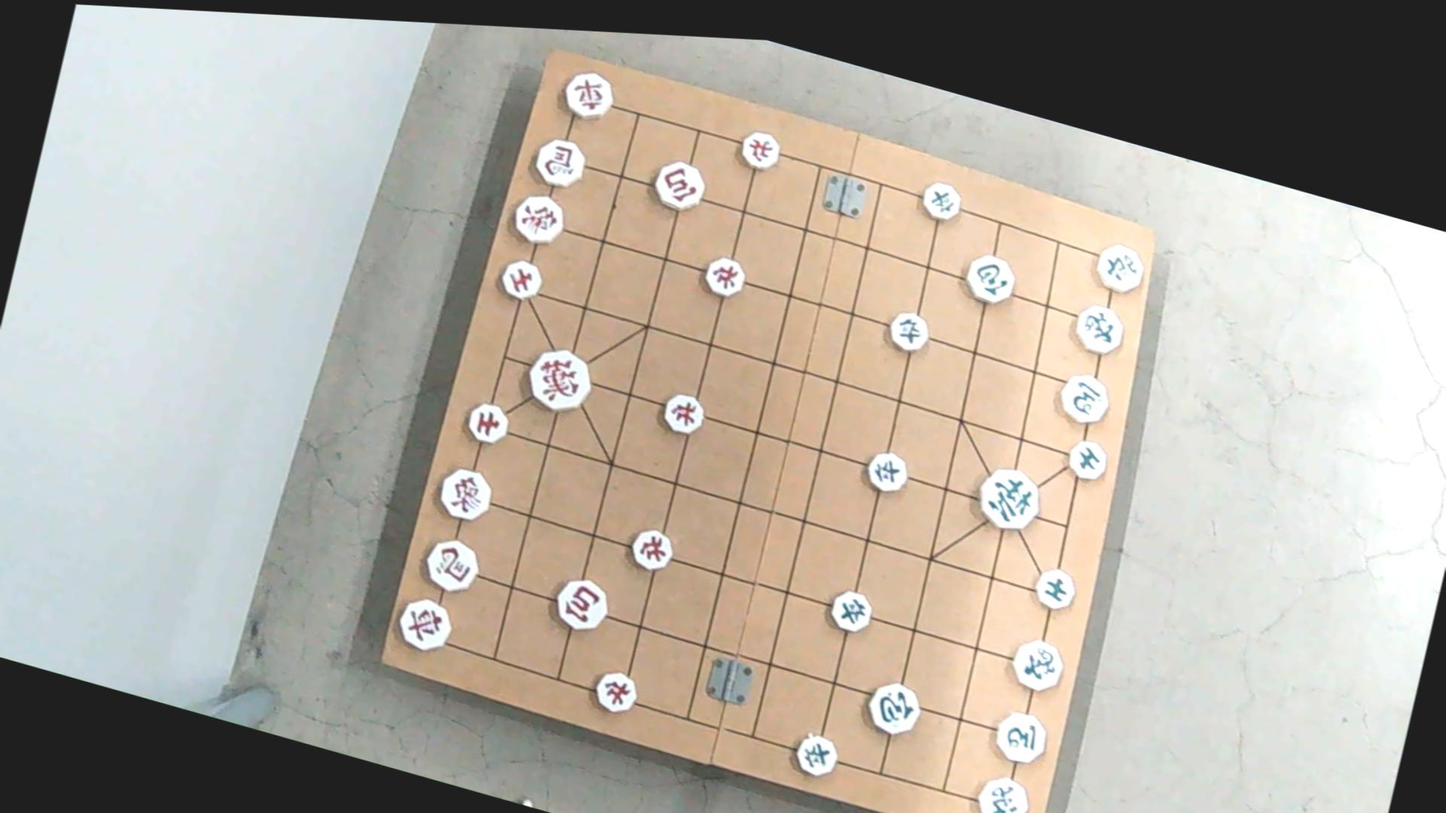cha_green: (1087, 235, 1149, 298), (969, 772, 1032, 813)
cha_red: (391, 595, 456, 656), (557, 66, 616, 120)
jol_green: (787, 731, 839, 778), (824, 588, 874, 635), (865, 448, 914, 494), (883, 308, 931, 354), (917, 179, 963, 222)
jol_red: (731, 124, 786, 179), (590, 666, 642, 714), (696, 252, 746, 300), (657, 388, 707, 435), (627, 527, 676, 574)
ma_green: (1052, 367, 1116, 428), (987, 705, 1048, 766)
ma_red: (416, 537, 480, 598), (531, 136, 590, 192)
po_green: (860, 674, 926, 740), (958, 247, 1019, 307)
po_red: (553, 577, 614, 635), (649, 157, 708, 213)
sa_green: (1030, 566, 1078, 611), (1059, 437, 1106, 481)
sa_red: (460, 398, 510, 446), (495, 255, 544, 301)
sang_green: (1005, 630, 1069, 697), (1069, 300, 1127, 356)
sang_red: (432, 465, 494, 525), (511, 192, 570, 248)
wang_green: (974, 463, 1046, 534)
wang_red: (517, 346, 593, 417)
